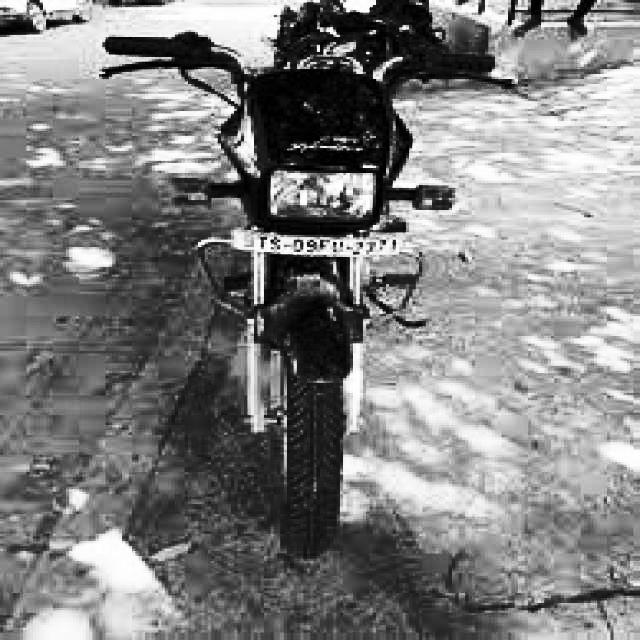Bike: (105, 34, 515, 552)
